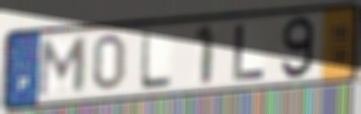0: (89, 32, 130, 94)
1: (193, 23, 217, 87)
9: (281, 14, 316, 80)
L: (138, 28, 175, 92), (231, 21, 269, 83)
M: (35, 35, 91, 100)
